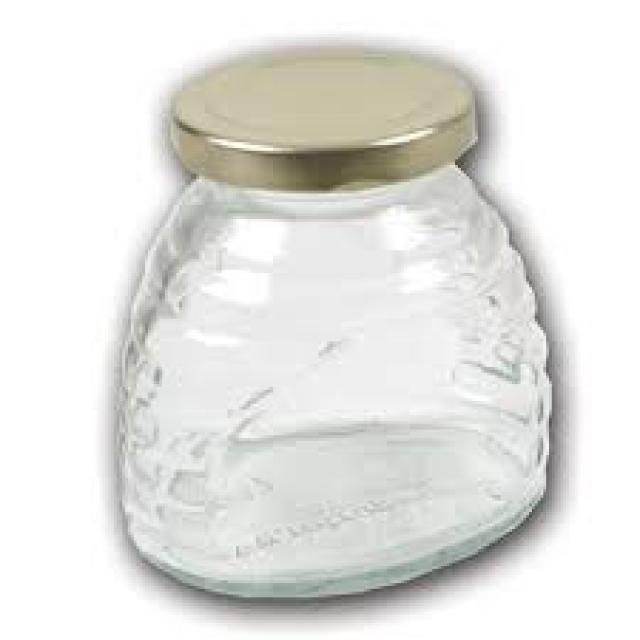Dry Waste: (108, 36, 562, 602)
